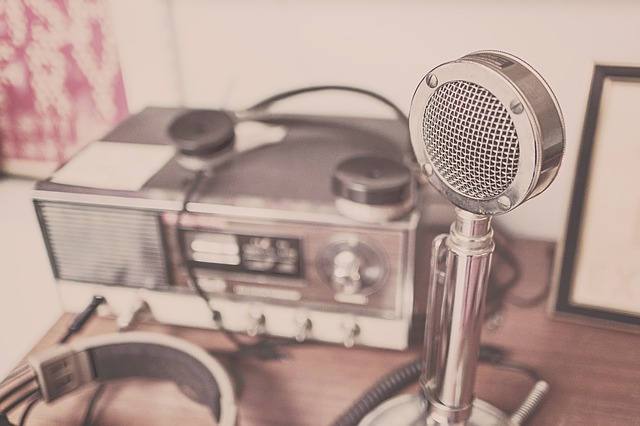headphones: (166, 86, 418, 223)
